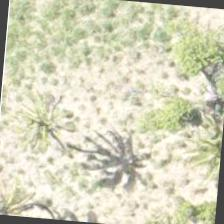Kelapa_Sawit: (0, 68, 89, 166), (0, 167, 66, 221)
